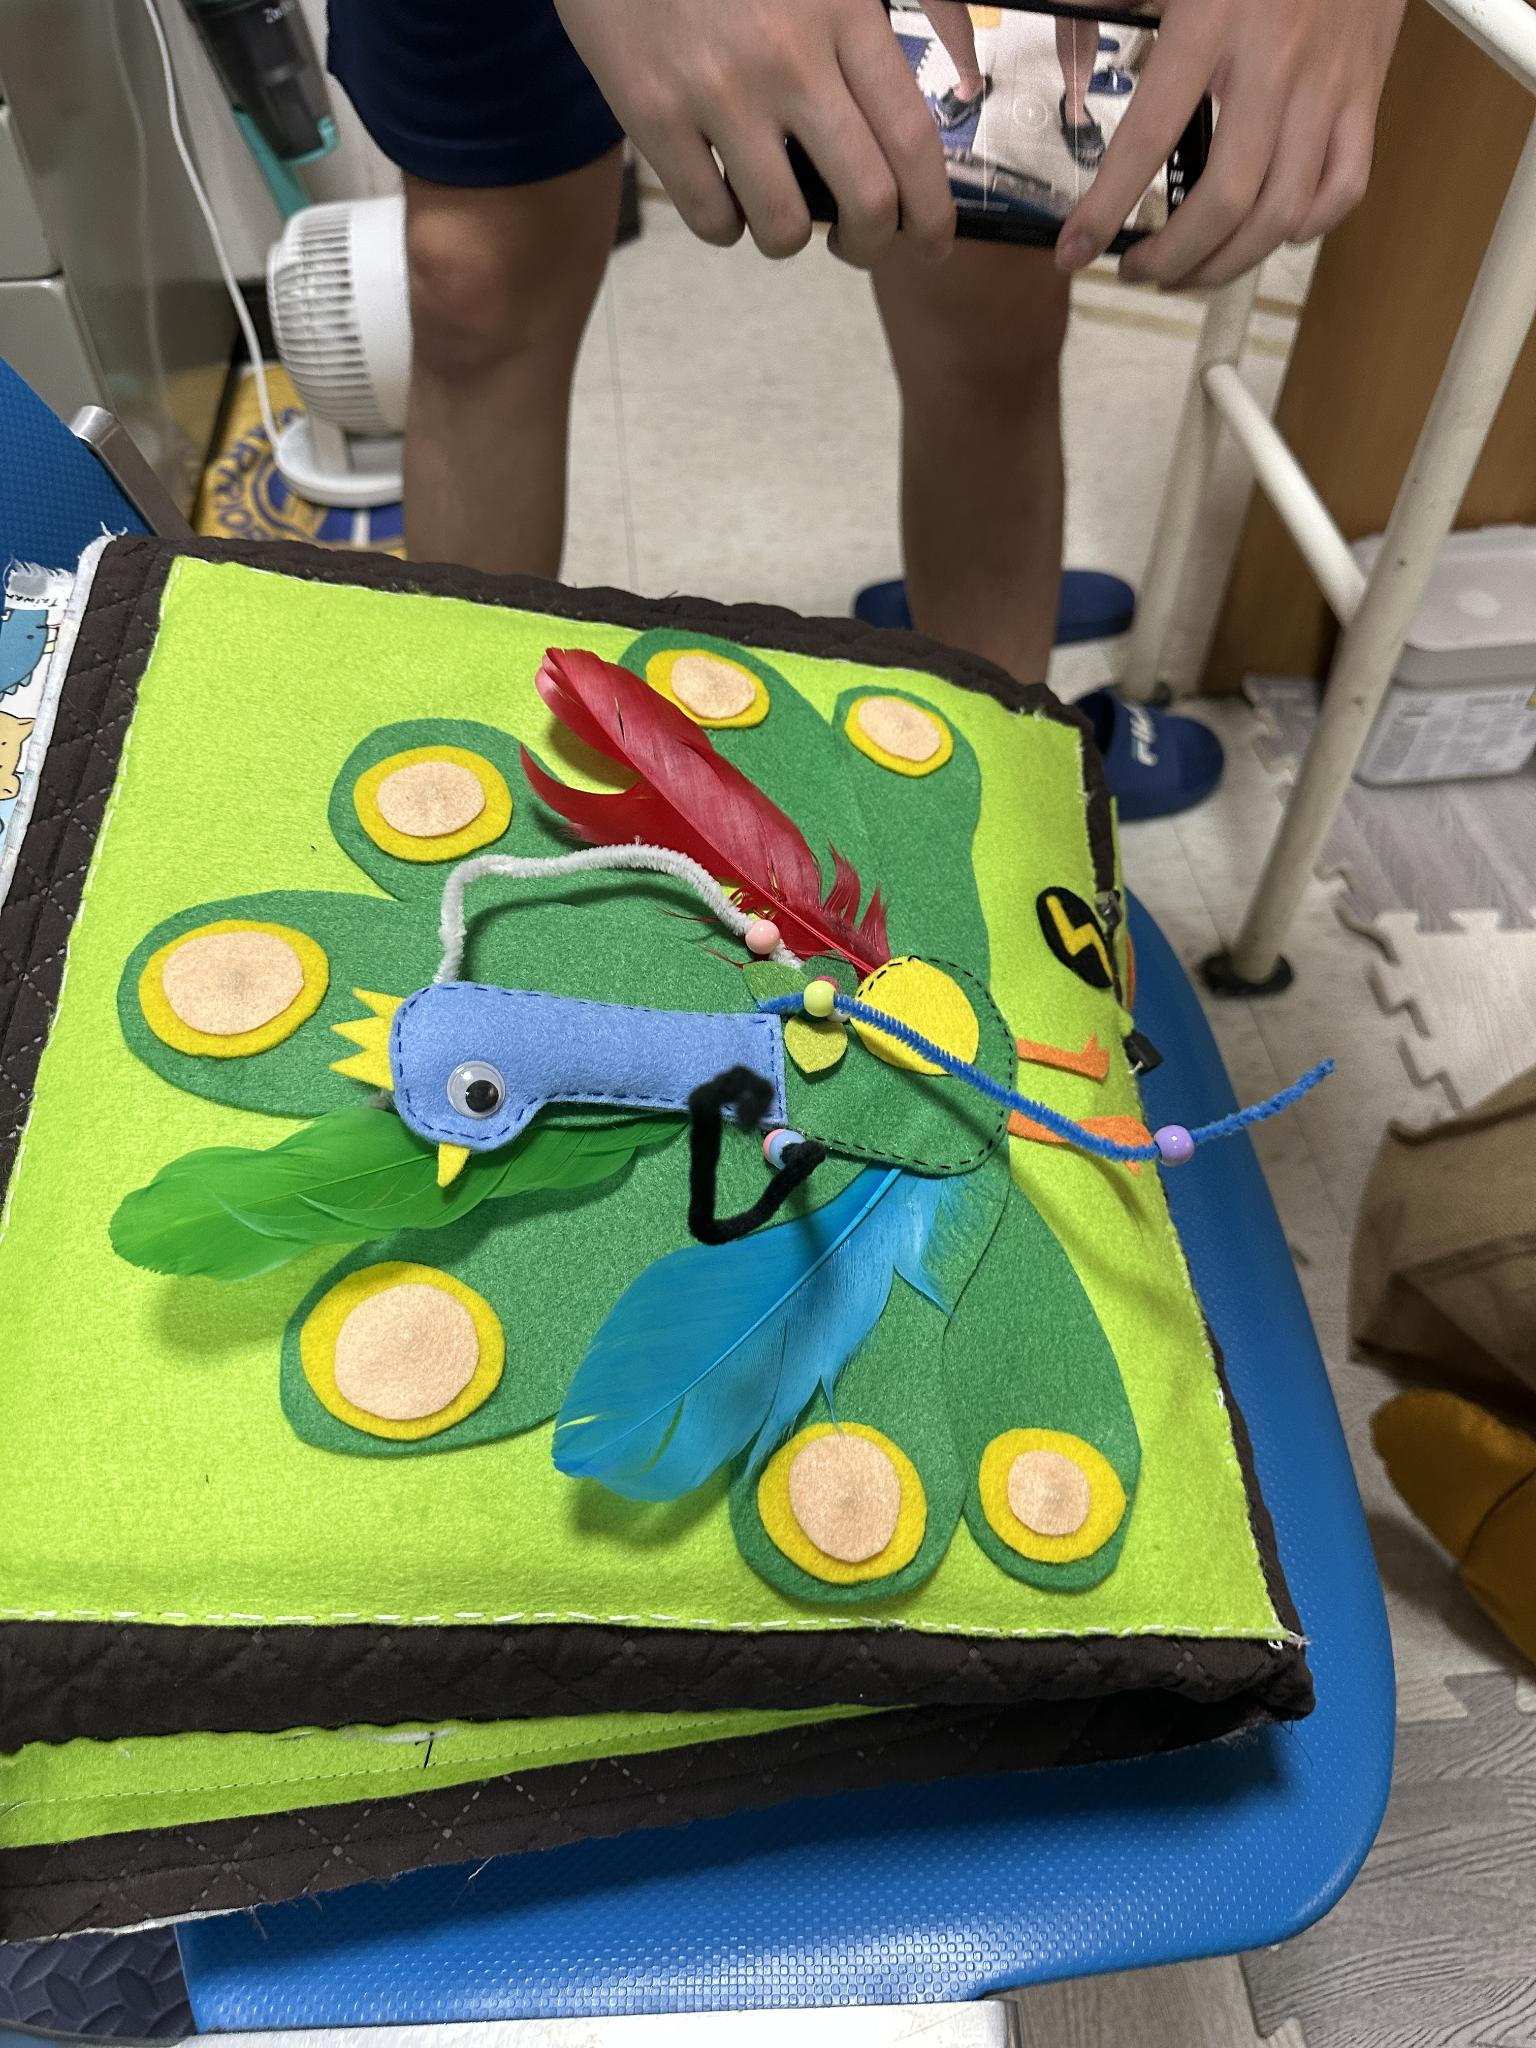bead: (1141, 1109, 1202, 1172), (737, 903, 795, 969), (799, 971, 858, 1029), (771, 1137, 820, 1180), (760, 1119, 776, 1161)
